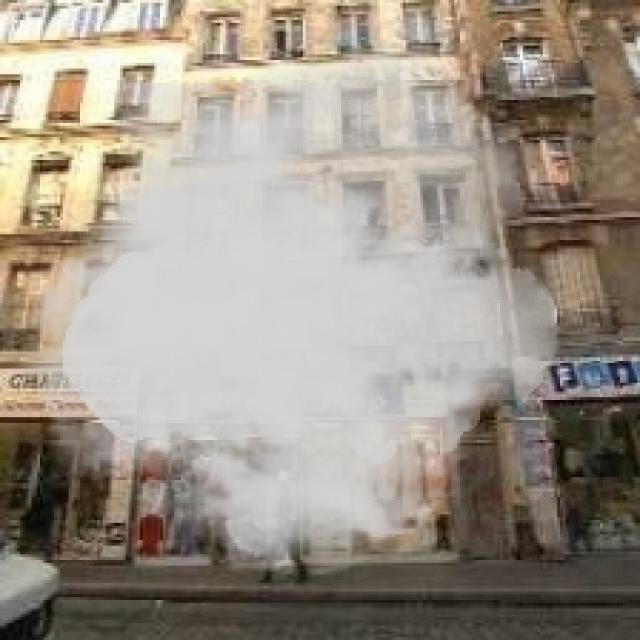Smoke: (6, 34, 560, 583)
